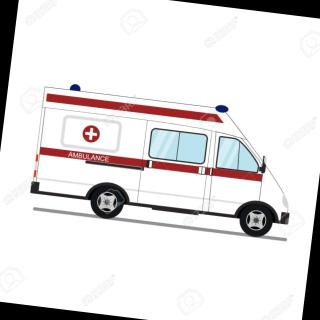Ambulance: (15, 49, 315, 275)
